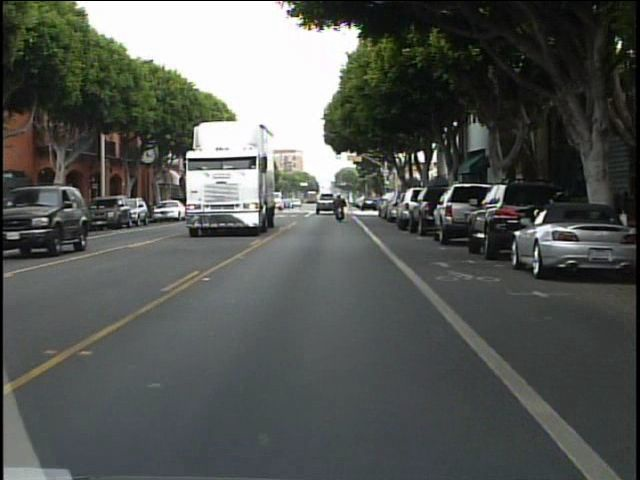person: (332, 191, 349, 222)
